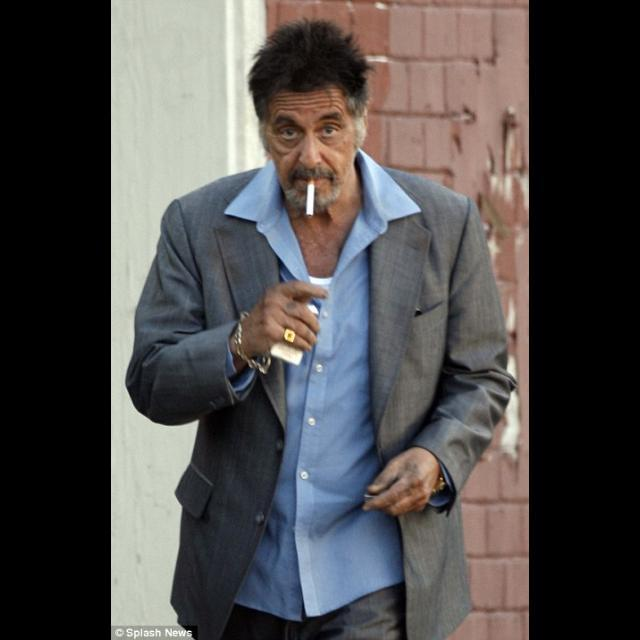rokok: (300, 173, 328, 223)
